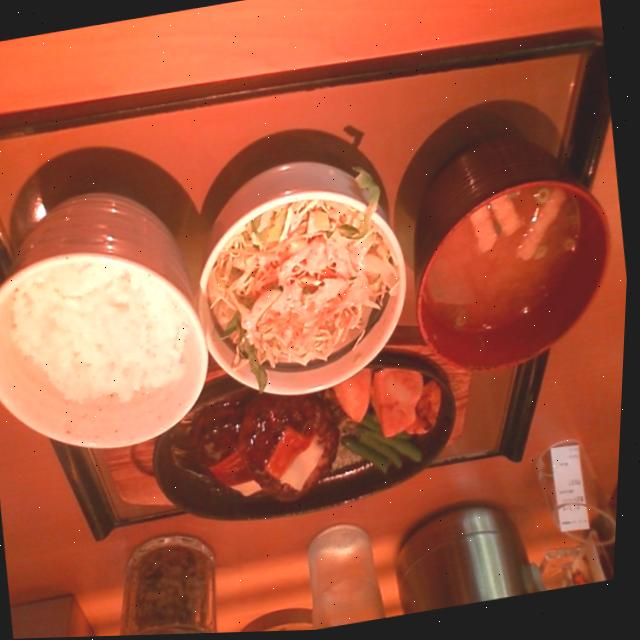汤锅炖物: (397, 181, 614, 384)
米饭主食: (0, 232, 209, 463)
蔬菜料理: (190, 188, 414, 402)
